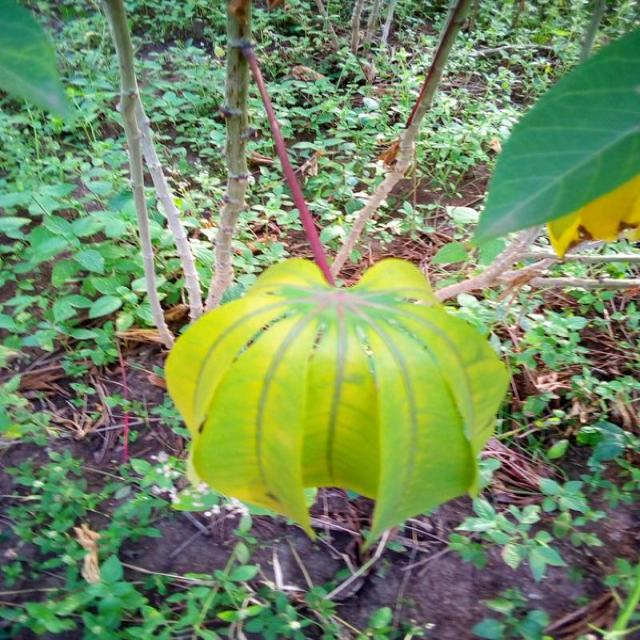cassava leaf: (163, 253, 510, 547), (470, 23, 640, 266)
